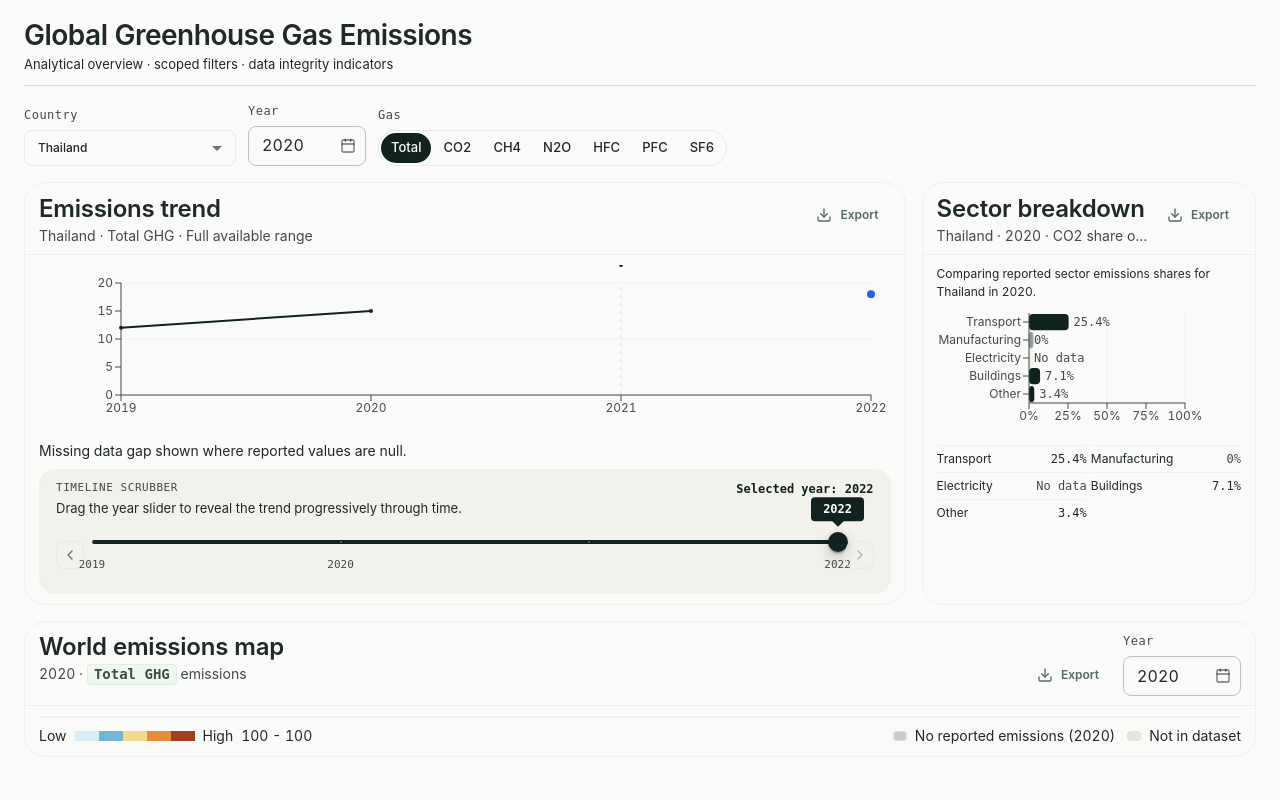
Scenario: Epic 3 dashboard › updates the line chart progressively with slider steppers
Expected: the text "Selected year: 2022" is shown, [736, 482, 874, 496]
Click the button named "previous trend year" at (70, 555), box [56, 541, 84, 569]
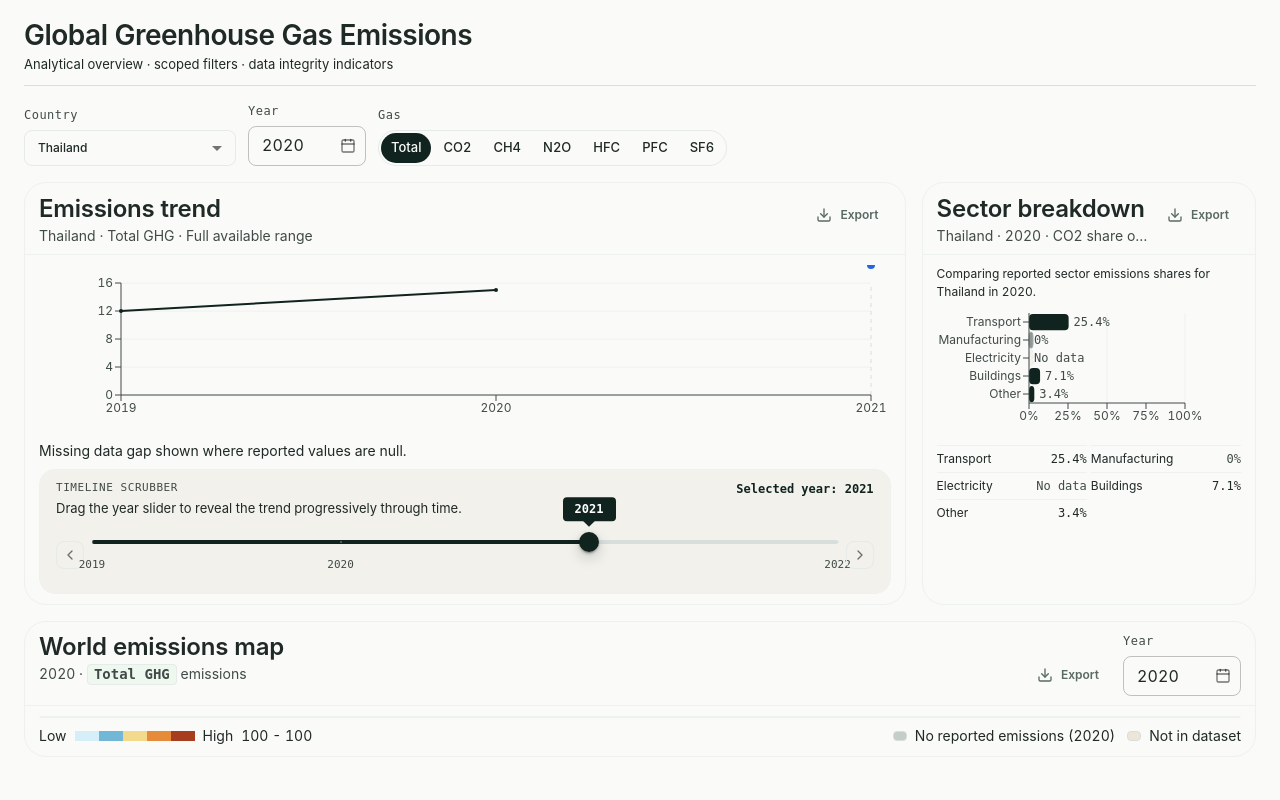
Click the button named "previous trend year" at (70, 555), box [56, 541, 84, 569]
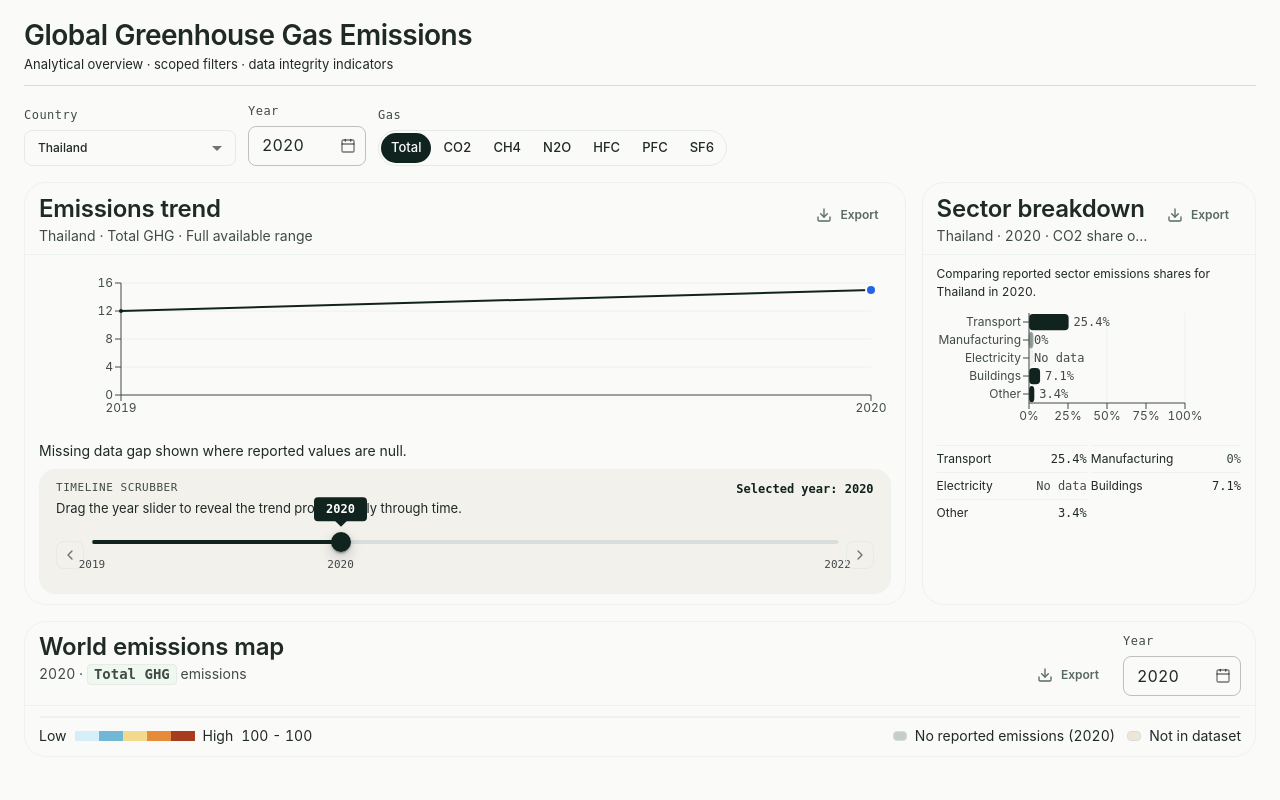
Click the button named "previous trend year" at (70, 555), box [56, 541, 84, 569]
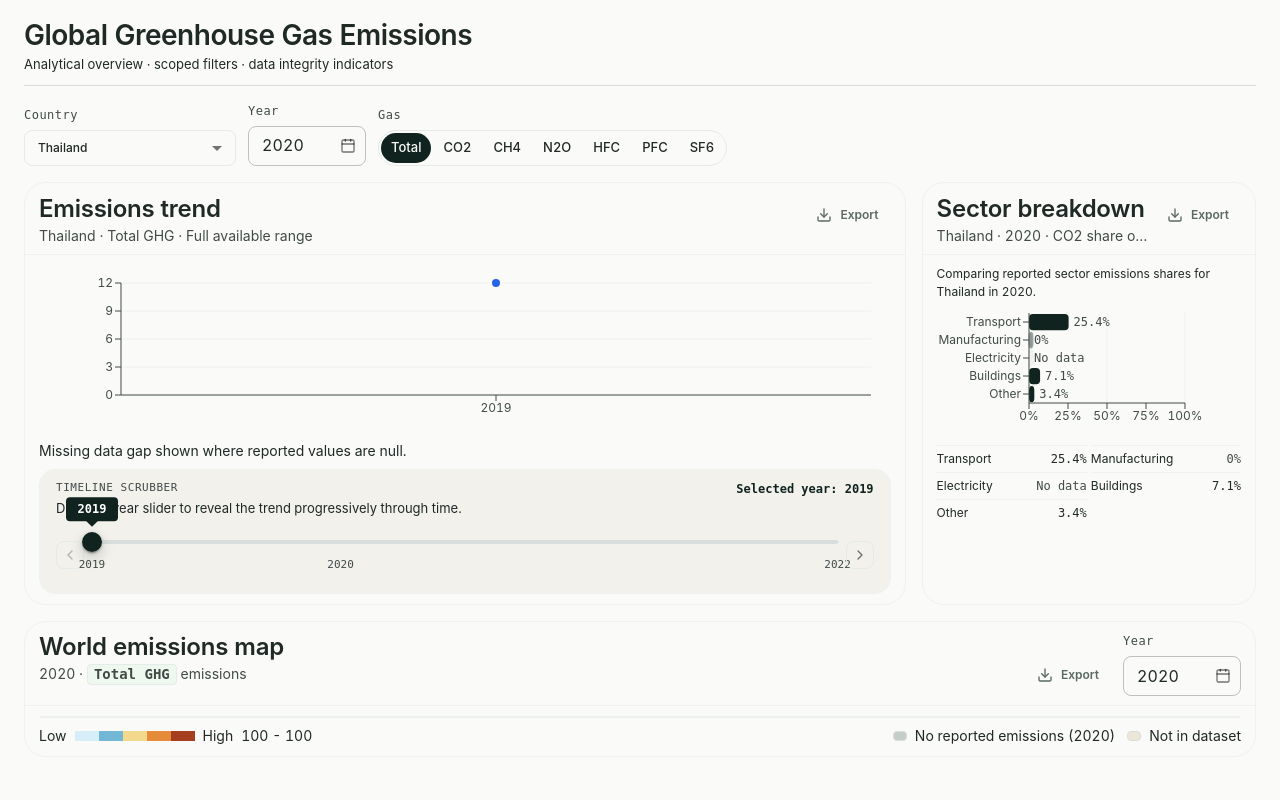
Expected: the text "reveal the trend progressively through time" is shown, [56, 500, 462, 516]
Expected: the text "Selected year: 2019" is shown, [736, 482, 874, 496]
Expected: the button named "previous trend year" is disabled, [56, 541, 84, 569]
